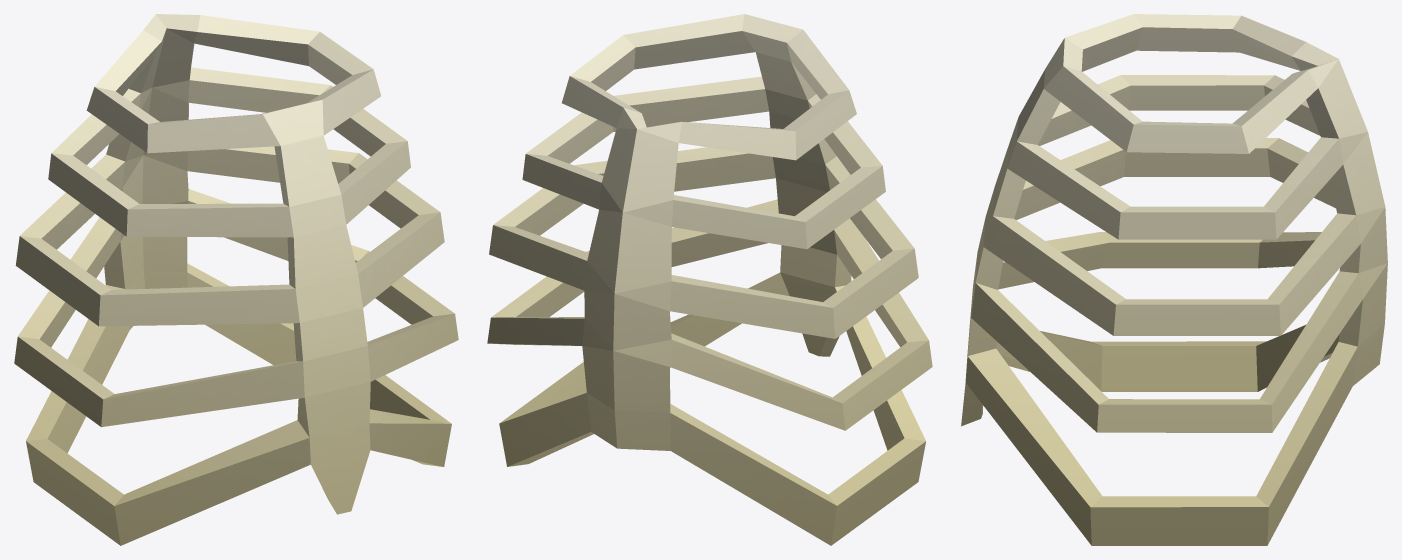
File: Bones_HumanRibcage.fbx
The picture shows the model from 3 angles, left to right: view 1: azimuth 30°, elevation 25°; view 2: azimuth 150°, elevation 25°; view 3: azimuth 270°, elevation 25°; orthographic projection.
Visible parts, largest first — view 1: Bones_HumanRibcage; view 2: Bones_HumanRibcage; view 3: Bones_HumanRibcage.
Part boxes in pixels (box(x1,y1,x2,y2)): Bones_HumanRibcage: box(14, 14, 458, 545); Bones_HumanRibcage: box(487, 14, 932, 545); Bones_HumanRibcage: box(961, 14, 1387, 545).
Size of the model in its own units: 34.2 by 37.58 by 35.18.
